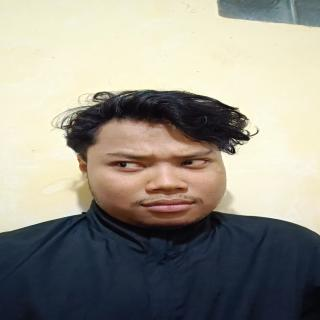Takut: (77, 106, 238, 233)
